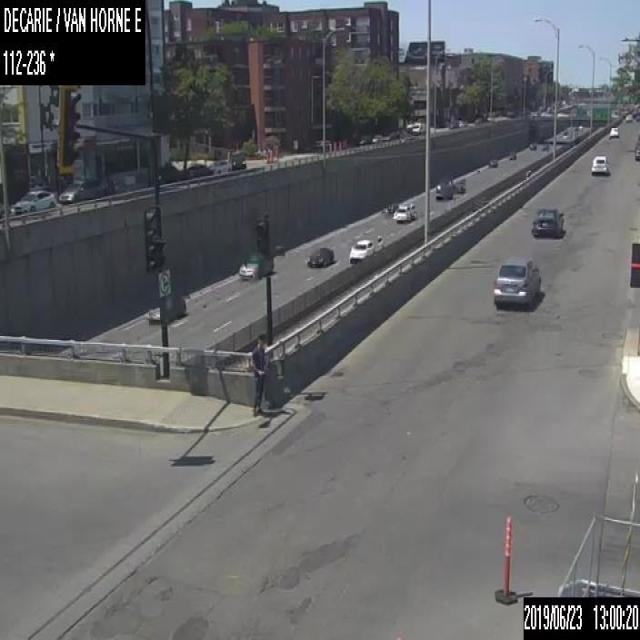construction: (492, 513, 520, 604), (332, 140, 336, 151), (328, 143, 332, 152), (338, 140, 341, 152), (269, 150, 272, 161), (266, 152, 268, 162)
pedestrian: (251, 332, 266, 415)
vehicle: (492, 255, 541, 308), (145, 295, 185, 323), (12, 188, 55, 212), (530, 207, 564, 236), (58, 178, 98, 202), (237, 252, 273, 277), (306, 247, 333, 266), (349, 239, 373, 260), (156, 163, 178, 183), (433, 176, 452, 197), (590, 154, 608, 174), (396, 202, 414, 220), (230, 150, 246, 170), (209, 159, 230, 172), (188, 163, 206, 178), (411, 121, 424, 134), (453, 179, 465, 192), (609, 126, 618, 137), (371, 133, 381, 142), (634, 144, 639, 158), (488, 158, 496, 166), (625, 112, 632, 121), (529, 141, 536, 149), (508, 151, 515, 159)
